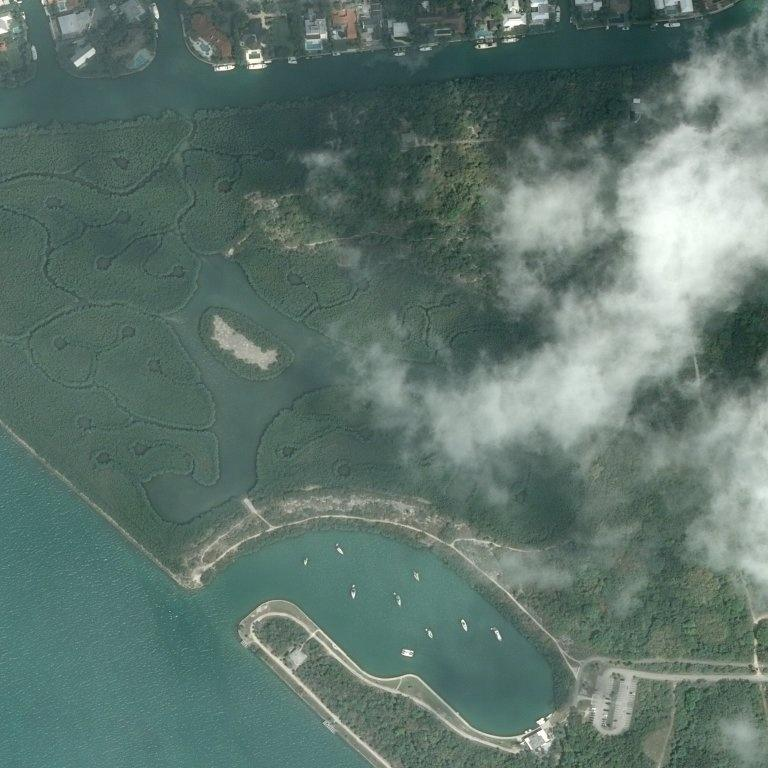ship: (489, 625, 505, 643), (398, 651, 417, 656), (388, 591, 393, 607), (352, 584, 356, 600), (463, 614, 467, 622), (302, 559, 310, 563), (338, 538, 342, 545), (427, 631, 431, 636), (466, 630, 468, 632), (416, 575, 417, 578), (500, 640, 502, 641), (460, 621, 462, 622), (432, 637, 433, 639), (400, 649, 401, 651), (391, 650, 392, 652), (414, 572, 416, 573), (399, 605, 401, 606), (391, 594, 392, 596), (351, 585, 352, 587), (353, 584, 355, 585), (342, 554, 344, 555), (493, 629, 494, 630), (425, 631, 426, 632), (412, 656, 413, 657), (418, 580, 419, 581), (390, 574, 391, 575), (397, 594, 398, 595), (353, 598, 354, 599), (312, 547, 313, 548), (338, 544, 339, 545), (304, 565, 305, 566), (75, 556, 76, 557), (497, 628, 497, 629), (464, 620, 464, 621), (427, 629, 427, 629), (307, 543, 309, 543)
